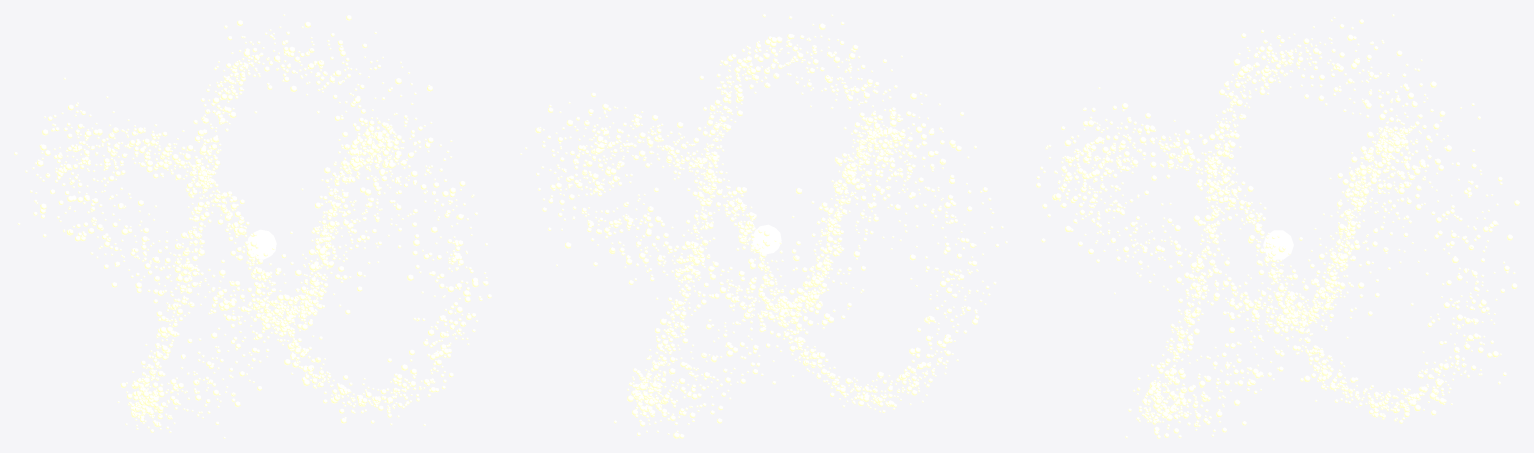
File: god_choir.glb
3 renders of one model, left to right at view 1: azimuth 30°, elevation 25°; view 2: azimuth 150°, elevation 25°; view 3: azimuth 270°, elevation 25°, orthographic. The views are drawn at different scales.
Visible parts, largest first — view 1: Choir, ChoirHeart; view 2: Choir, ChoirHeart; view 3: Choir, ChoirHeart.
Part boxes in pixels (<box>): Choir: <box>14,14,491,438</box>; ChoirHeart: <box>247,229,276,259</box>; Choir: <box>520,14,1007,438</box>; ChoirHeart: <box>752,224,781,254</box>; Choir: <box>1036,14,1519,438</box>; ChoirHeart: <box>1263,230,1293,259</box>.
Bounding box in the file's own units: 1.8 × 1.36 × 1.88.
